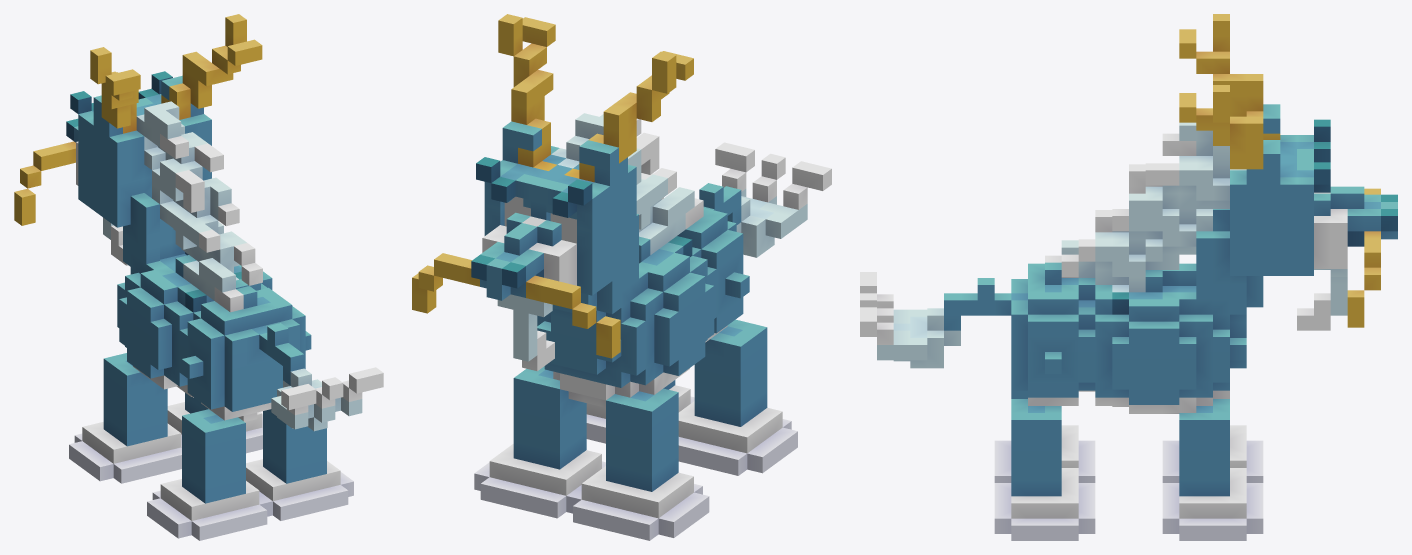
File: Kirin.glb
3 views of the same model, side by side, from view 1: azimuth 30°, elevation 25°; view 2: azimuth 150°, elevation 25°; view 3: azimuth 270°, elevation 25° (orthographic). The views are drawn at different scales.
Visible parts, largest first — view 1: Head__VC, Body__VC, Leg3__VC, Leg1__VC, Leg4__VC, Tail3__VC, Tail__VC, Leg2__VC, Tail2__VC; view 2: Head__VC, Body__VC, Leg1__VC, Leg3__VC, Leg2__VC, Tail3__VC, Tail2__VC, Tail__VC, Leg4__VC, Head__Iris; view 3: Head__VC, Body__VC, Leg4__VC, Leg2__VC, Tail3__VC, Leg3__VC, Tail__VC, Leg1__VC, Tail2__VC.
Boxes of the visible parts, x1,y1,x2,y2 form: Head__VC: [14, 14, 262, 273]; Body__VC: [117, 177, 311, 421]; Leg3__VC: [147, 409, 272, 540]; Leg1__VC: [69, 353, 181, 483]; Leg4__VC: [246, 409, 353, 520]; Tail3__VC: [279, 367, 383, 431]; Tail__VC: [259, 323, 304, 387]; Leg2__VC: [167, 393, 262, 453]; Tail2__VC: [271, 368, 321, 428]; Head__VC: [412, 14, 693, 371]; Body__VC: [537, 168, 749, 407]; Leg1__VC: [566, 388, 709, 540]; Leg3__VC: [678, 319, 797, 475]; Leg2__VC: [474, 366, 605, 518]; Tail3__VC: [715, 142, 831, 232]; Tail2__VC: [741, 197, 789, 257]; Tail__VC: [699, 183, 741, 232]; Leg4__VC: [586, 380, 694, 443]; Head__Iris: [512, 199, 573, 242]; Head__VC: [1129, 14, 1397, 330]; Body__VC: [1011, 186, 1246, 413]; Leg4__VC: [994, 399, 1095, 540]; Leg2__VC: [1162, 399, 1263, 540]; Tail3__VC: [860, 272, 910, 361]; Leg3__VC: [994, 390, 1095, 482]; Tail__VC: [944, 278, 1011, 345]; Leg1__VC: [1162, 425, 1263, 482]; Tail2__VC: [910, 308, 943, 368].
Bounding box in the file's own units: 2.08 × 4.64 × 5.12.
